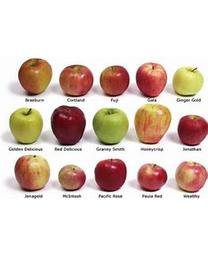apple: (134, 104, 170, 145), (13, 154, 50, 192), (50, 105, 85, 145), (17, 58, 52, 96), (92, 108, 128, 144), (9, 107, 42, 143), (59, 65, 94, 98), (135, 63, 168, 97), (94, 158, 127, 192), (175, 160, 207, 193), (177, 115, 207, 146), (174, 66, 203, 96), (100, 66, 128, 97), (138, 163, 167, 192), (58, 165, 87, 192)
